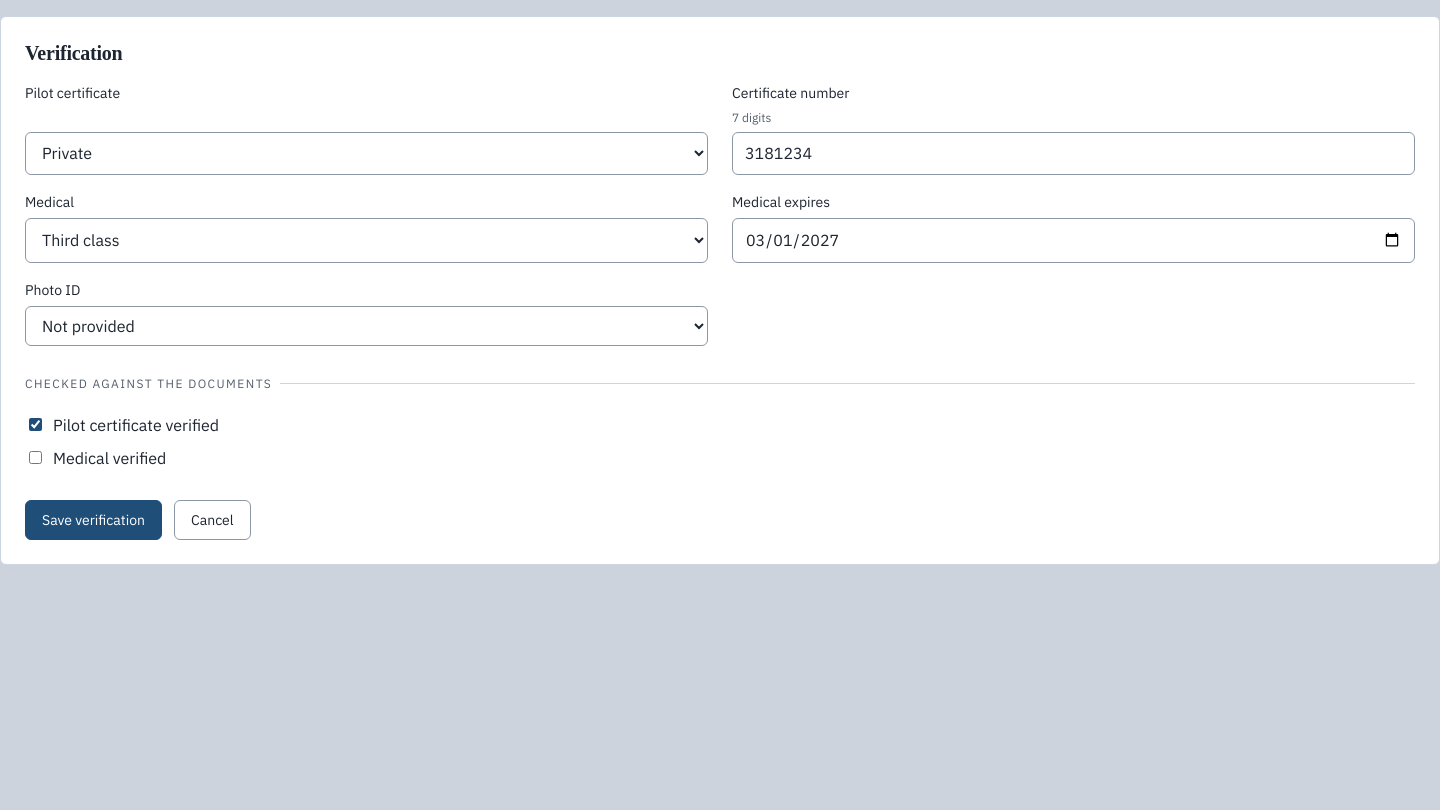
Test case: MemberVerificationPanel › takes the box away when an item is changed to one not held
Select "Not a pilot" in the dropdown labelled "Pilot certificate" at (366, 153), box [25,132,708,175]
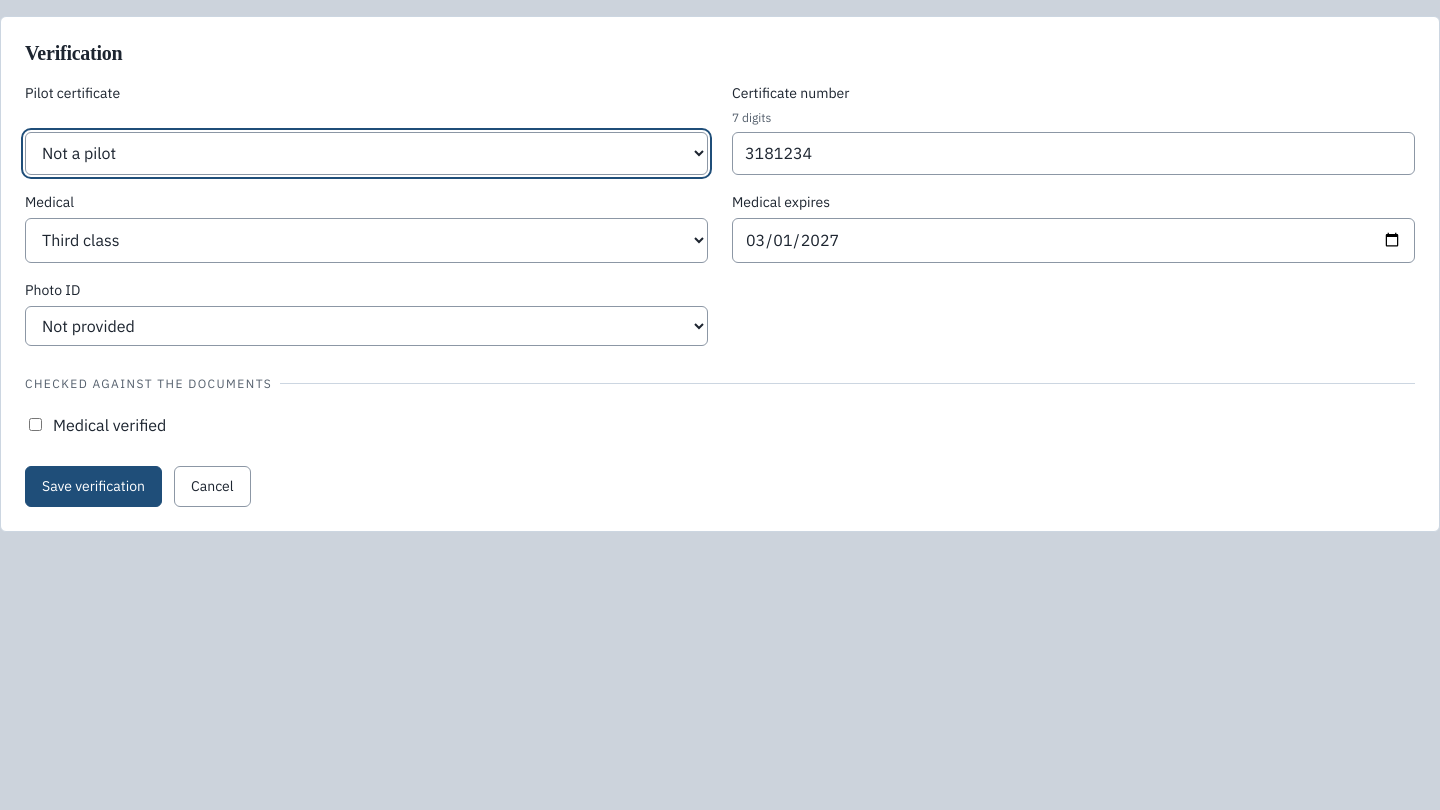
Expected: the text labelled "Pilot certificate verified" is gone
